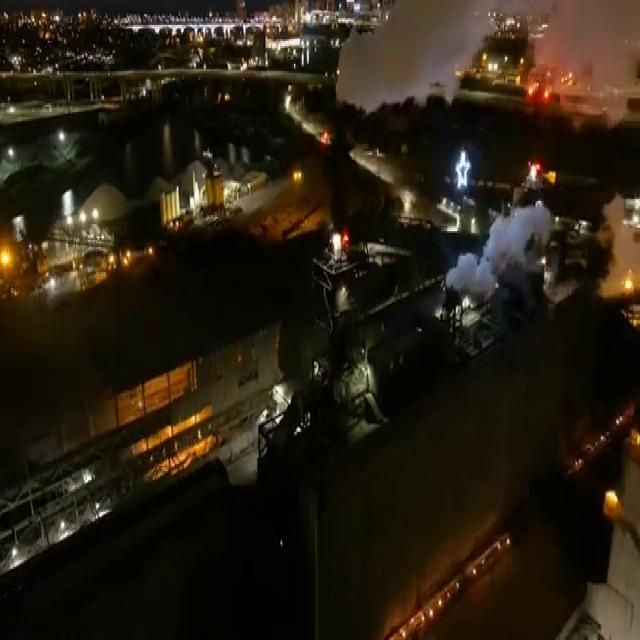smoke: (339, 0, 492, 110), (446, 196, 550, 304), (600, 196, 640, 309)
